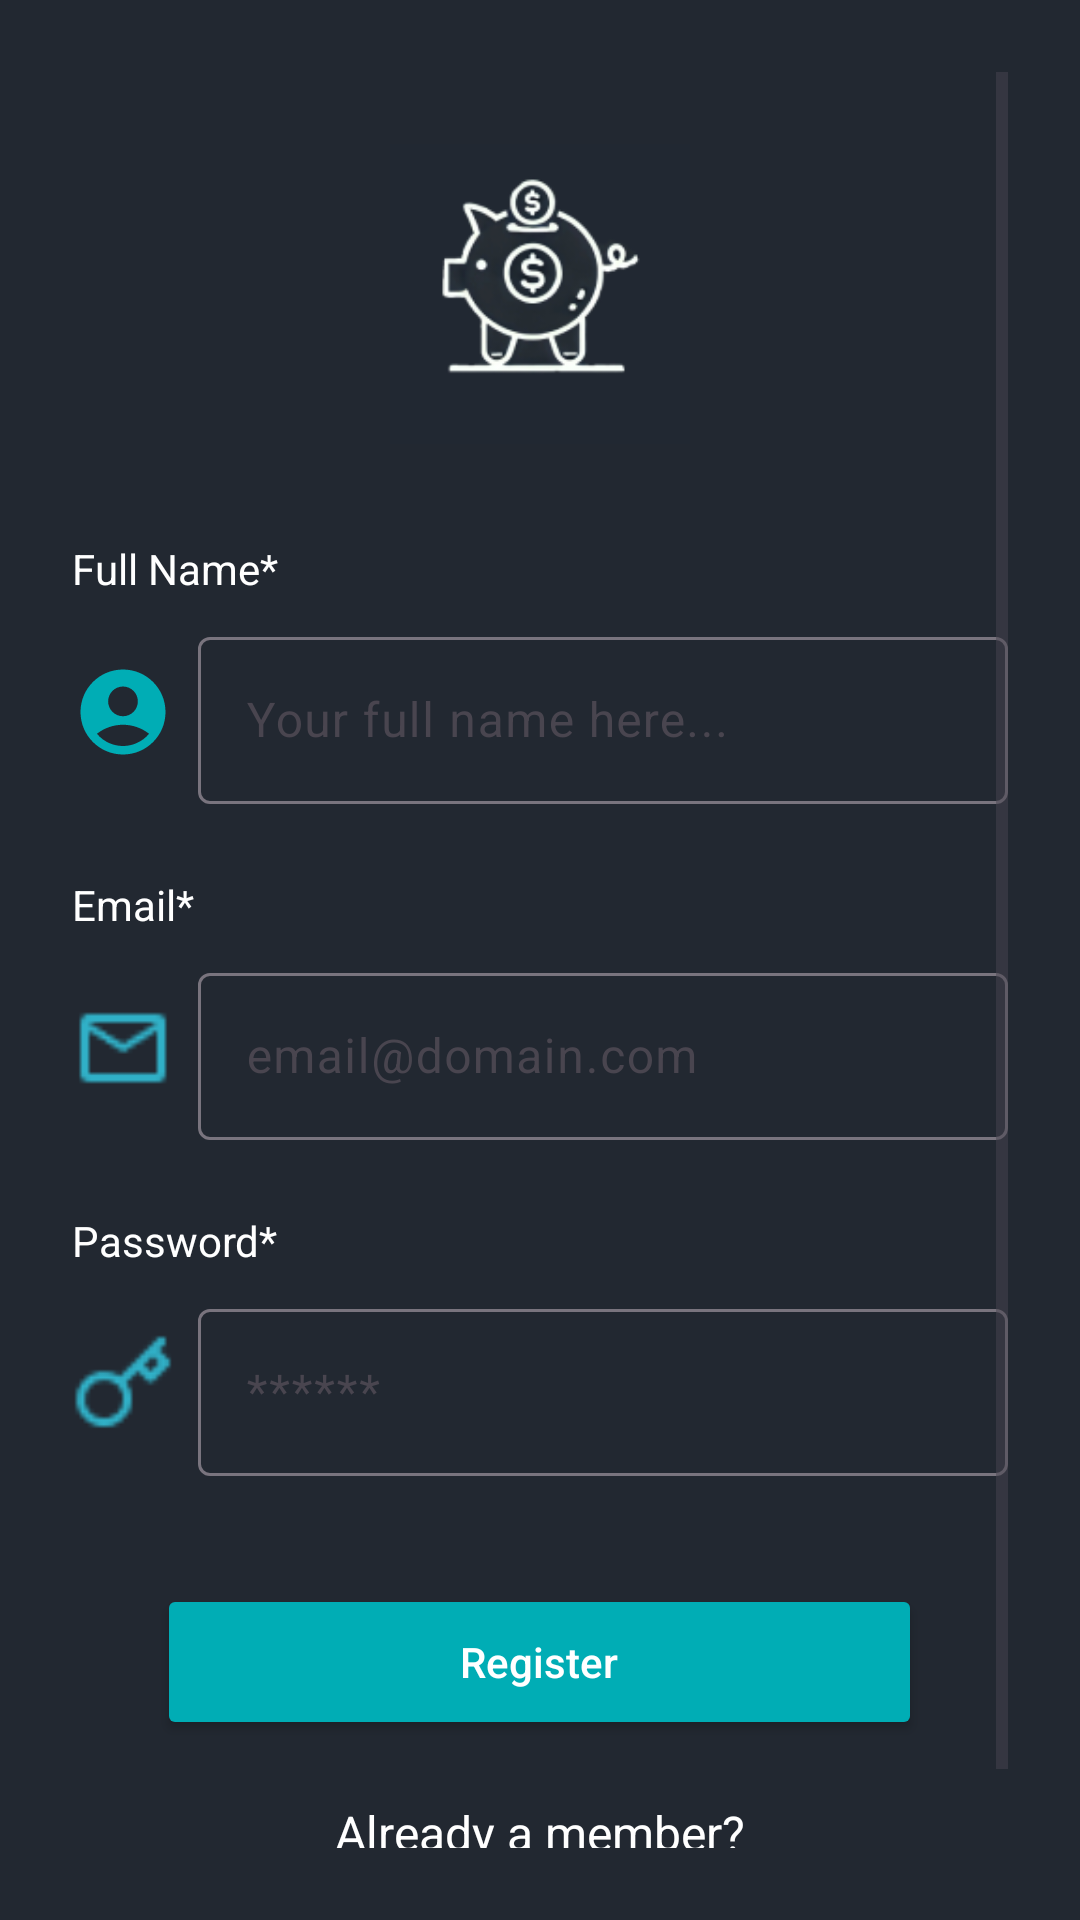

Icon click points for this 1080w x 1920h phone screenshot, format [x,y]:
account circle: [123,712]
Piggybank Icon: [540,276]
